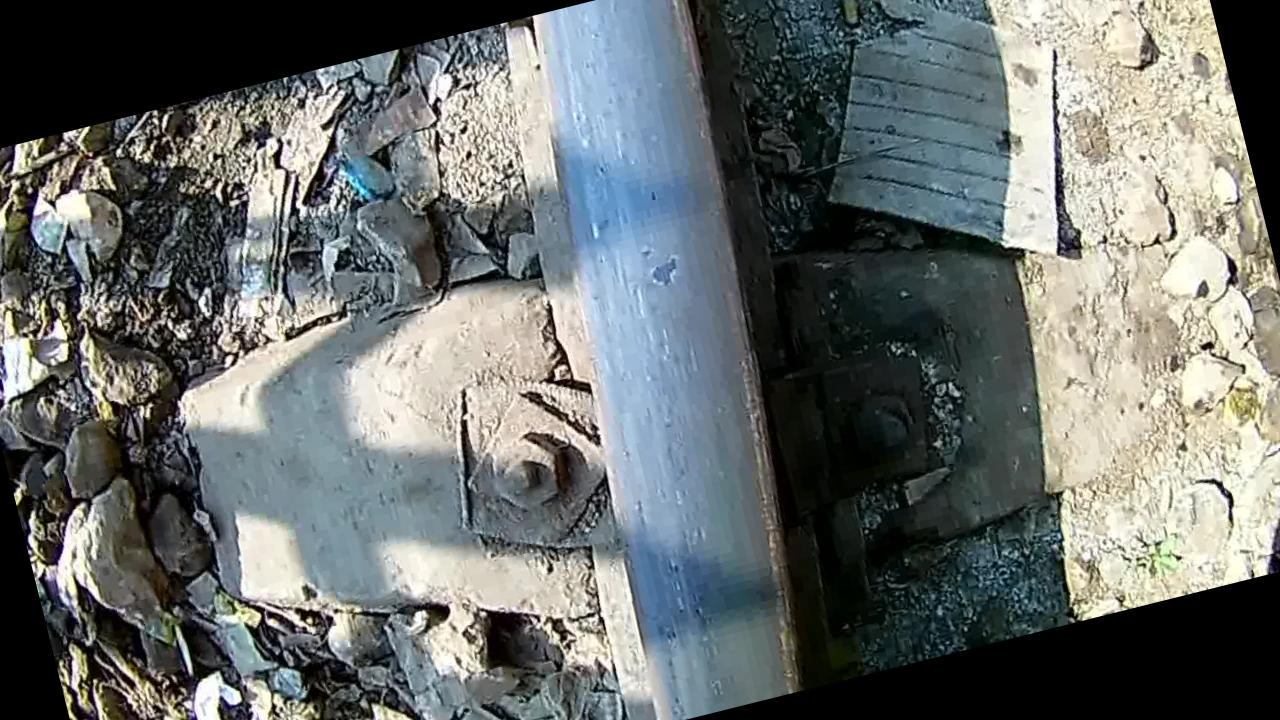crack: (572, 165, 759, 430)
